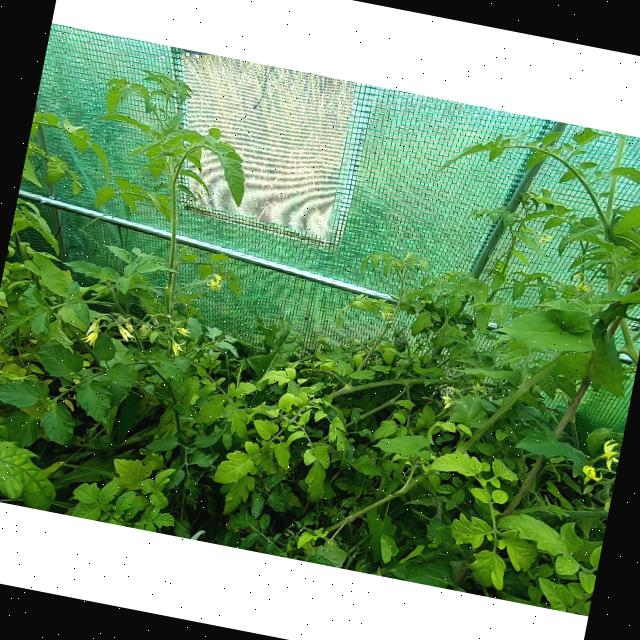Flowers: (79, 316, 104, 348), (598, 438, 621, 471), (112, 316, 139, 344), (578, 464, 607, 488), (204, 273, 226, 294), (440, 391, 460, 412), (531, 230, 554, 248), (167, 338, 187, 358), (168, 326, 194, 340), (576, 280, 594, 298), (381, 312, 396, 326), (139, 322, 151, 336), (570, 272, 582, 284)
